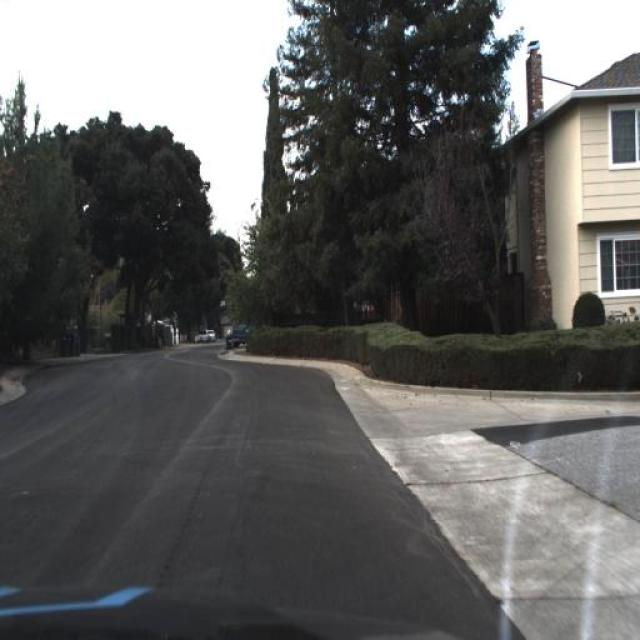car: (232, 308, 264, 348), (196, 329, 210, 343), (206, 330, 216, 342)
trafficLight: (227, 329, 232, 339)
